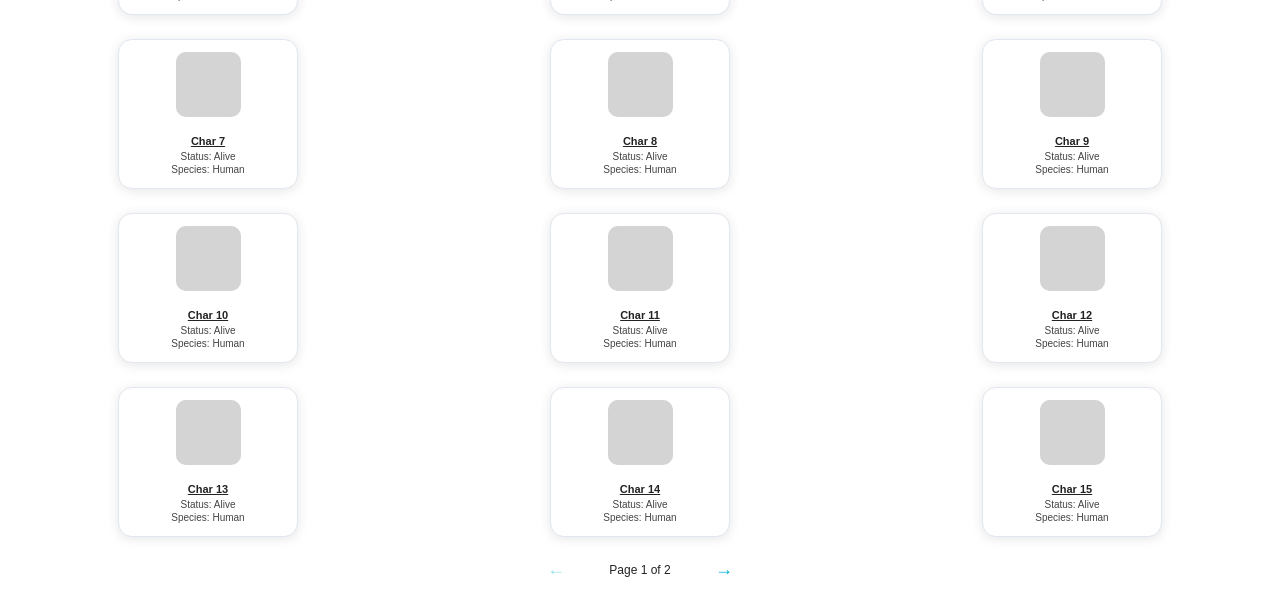
CharacterList pagination behavior › navigates between pages correctly
(page scrolled)
Click the button named "next page": (724, 570) x1=709 y1=553 x2=739 y2=586
(page scrolled)
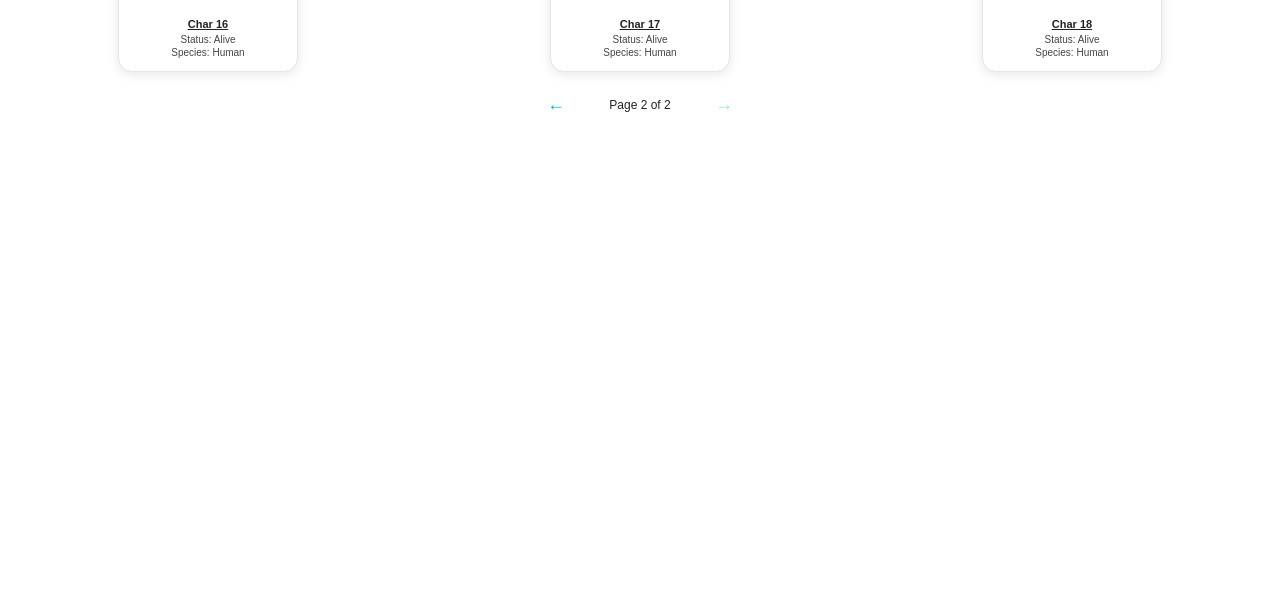
expect the text "Page 2 of 2" is shown: met, box x1=609 y1=98 x2=671 y2=112
Click the button "←": (556, 104) x1=541 y1=88 x2=571 y2=121
(page scrolled)
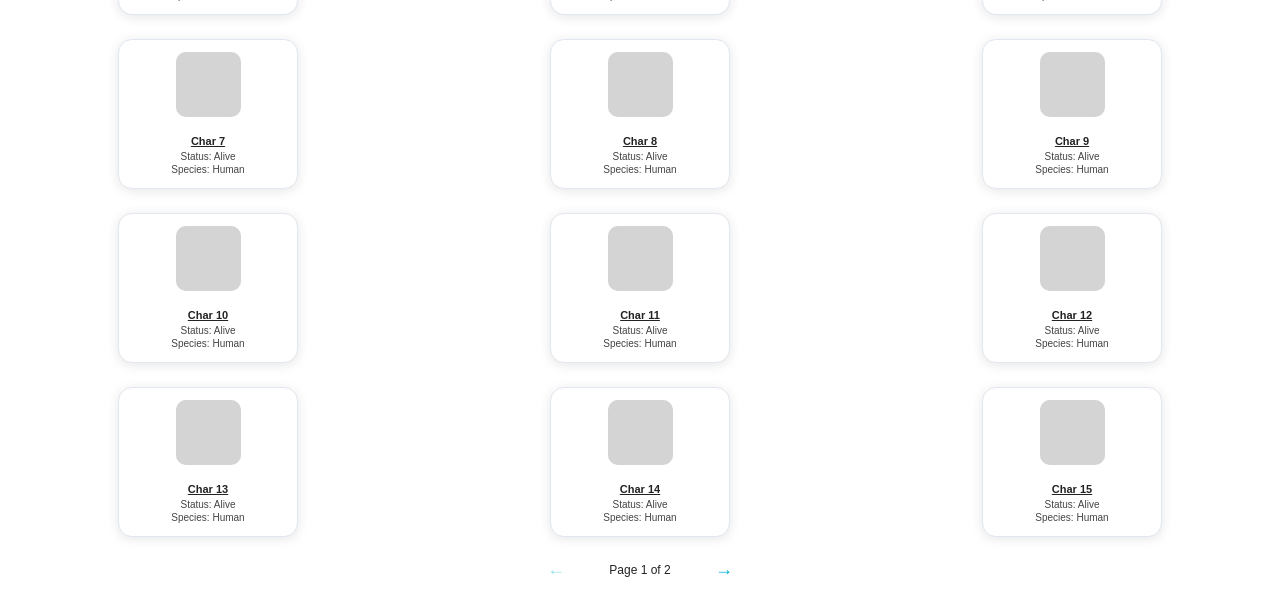
expect the text "Page 1 of 2" is shown: met, box x1=609 y1=562 x2=671 y2=576
